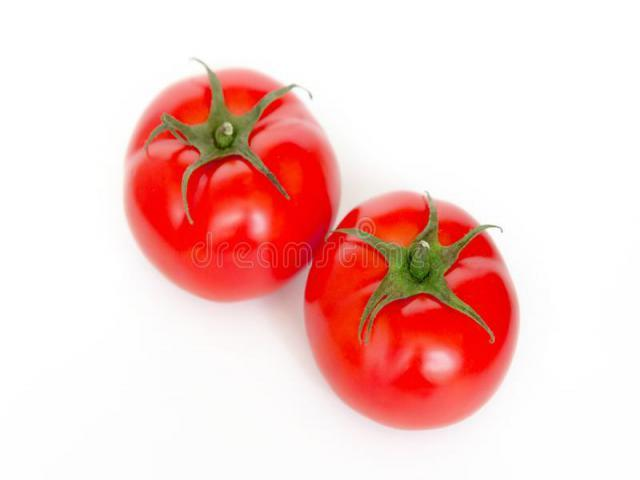tomato: (312, 190, 526, 448), (120, 62, 327, 317)
